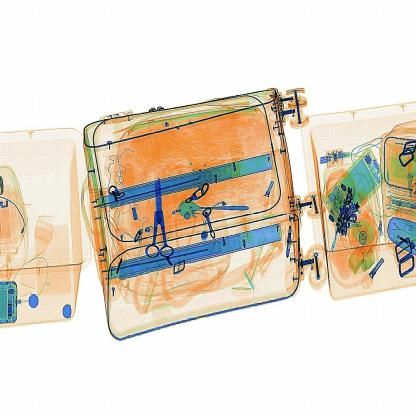gun: (129, 168, 180, 282)
